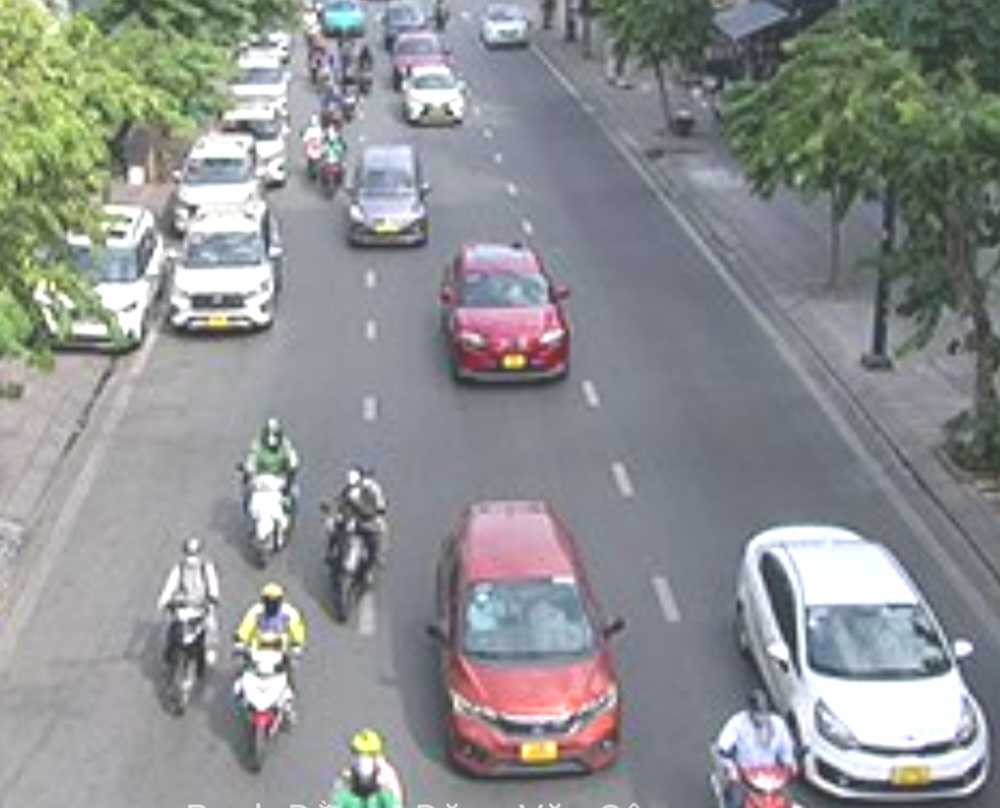car: (728, 527, 985, 796), (431, 504, 636, 777), (441, 239, 579, 382), (180, 214, 282, 332), (349, 146, 432, 241), (184, 134, 258, 208), (407, 69, 466, 127), (481, 3, 535, 50), (395, 33, 449, 70), (323, 1, 367, 36), (383, 3, 428, 33)
